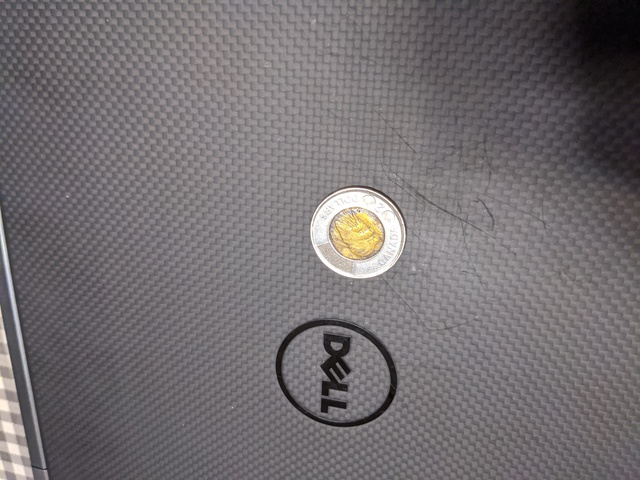twonie: (302, 188, 411, 283)
